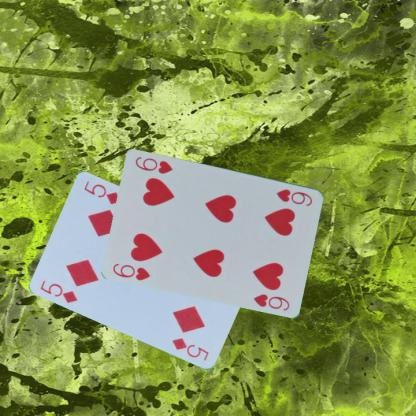5d: (38, 278, 79, 304)
6h: (110, 261, 152, 282), (274, 186, 314, 207)
